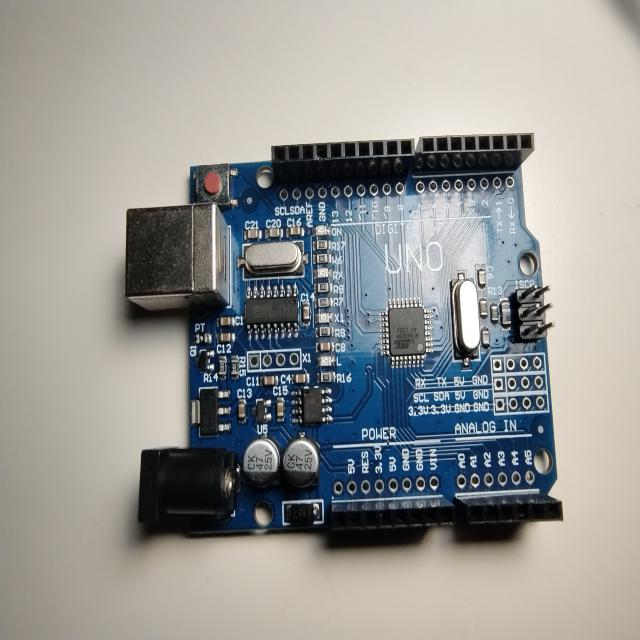arduino: (113, 116, 582, 570)
